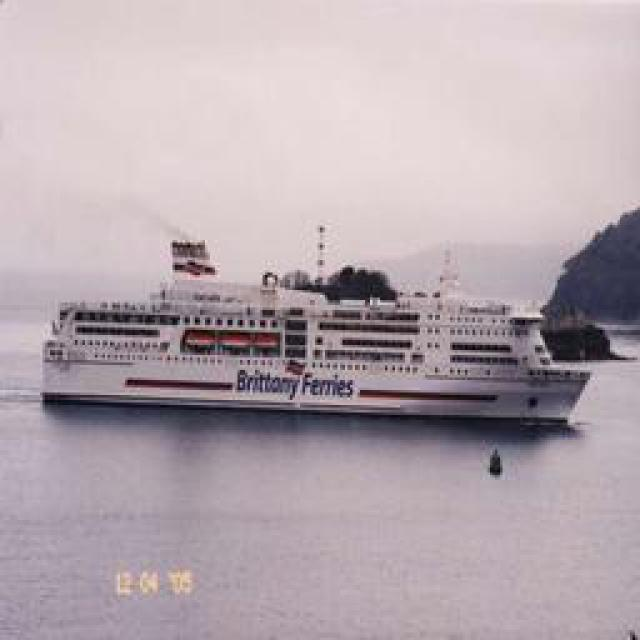Ship: (41, 252, 609, 422)
